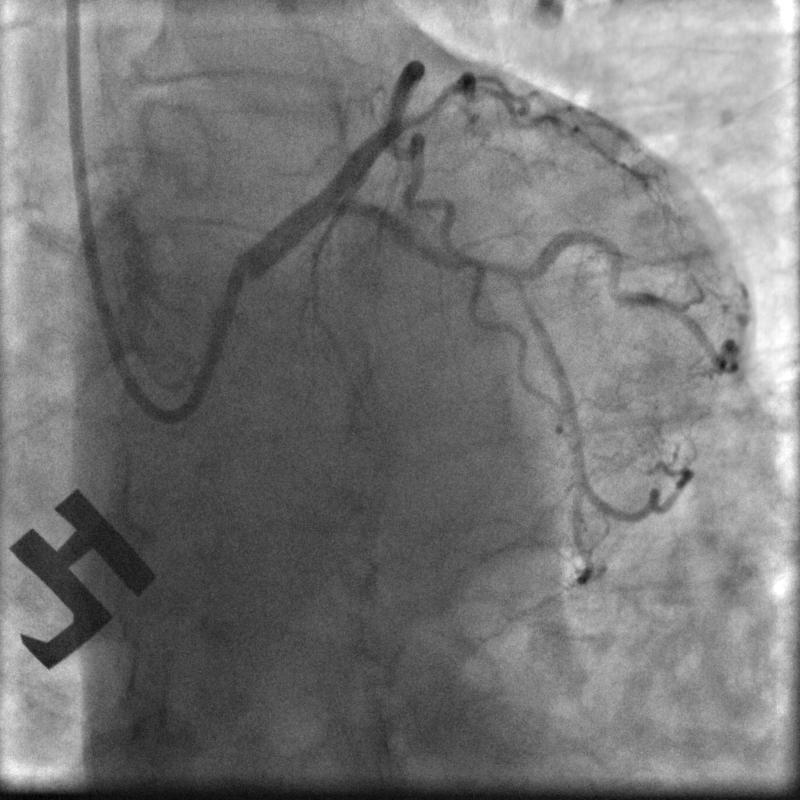Stenosis: (479, 249, 531, 305)
